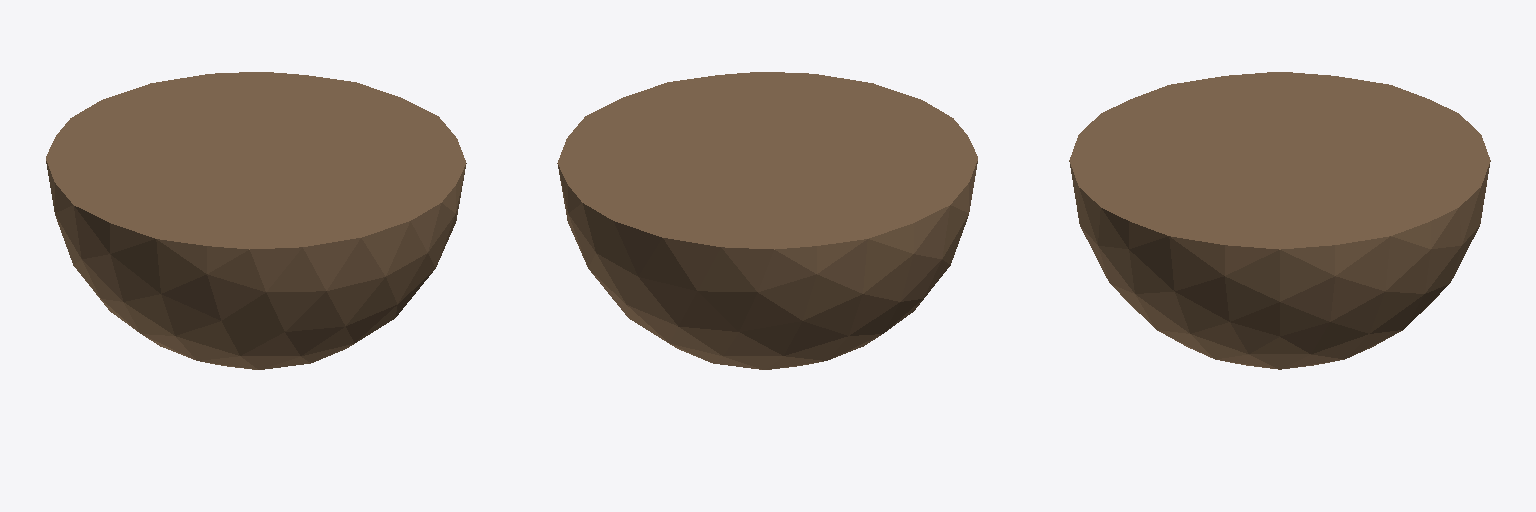
Rendered from earth.obj.
3 views of the same model, side by side, from view 1: azimuth 30°, elevation 25°; view 2: azimuth 150°, elevation 25°; view 3: azimuth 270°, elevation 25° (orthographic).
Parts seen in each view (by area): view 1: icosahedron10; view 2: icosahedron10; view 3: icosahedron10.
Boxes of the visible parts, x1=… form: icosahedron10: x1=46, y1=72, x2=466, y2=369; icosahedron10: x1=557, y1=72, x2=977, y2=369; icosahedron10: x1=1069, y1=72, x2=1490, y2=369.
Size of the model in its own units: 2 by 1 by 2.